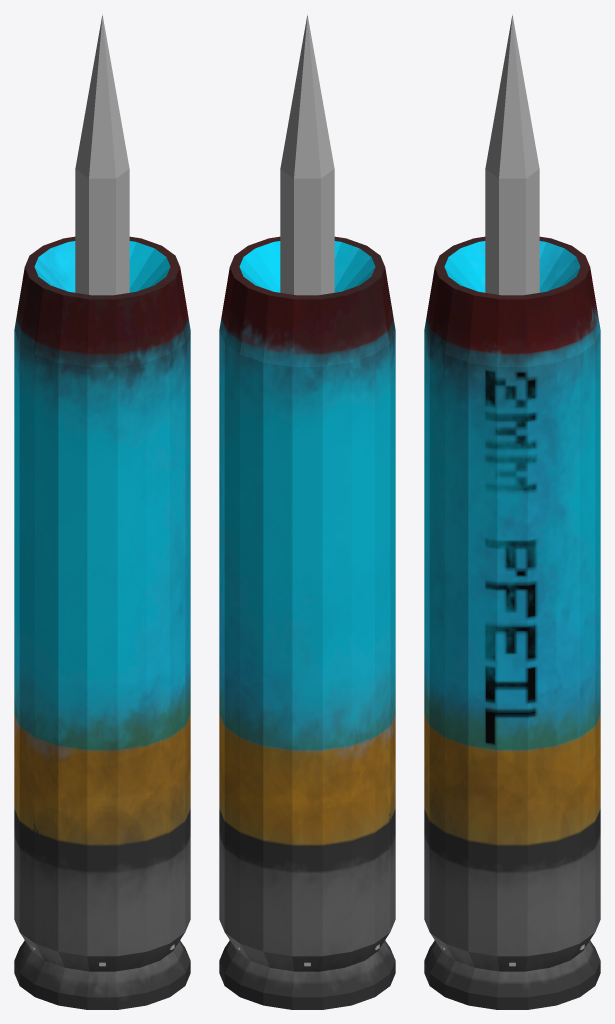
The model's file is 2mmbullet.glb.
3 views of the same model, side by side, from view 1: azimuth 30°, elevation 25°; view 2: azimuth 150°, elevation 25°; view 3: azimuth 270°, elevation 25° (orthographic).
Parts seen in each view (by area): view 1: casing, flechette; view 2: casing, flechette; view 3: casing, flechette.
Boxes of the visible parts, box(x1,y1,x2,y2) form: casing: box(14, 236, 190, 1009); flechette: box(30, 14, 174, 966); casing: box(219, 236, 395, 1009); flechette: box(235, 14, 379, 966); casing: box(424, 236, 600, 1009); flechette: box(440, 14, 584, 966).
Bounding box in the file's own units: 0.0101 × 0.0618 × 0.0103.
Materials: 2 (1 with a texture image).
